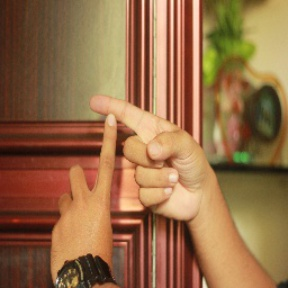T: (67, 86, 169, 220)
